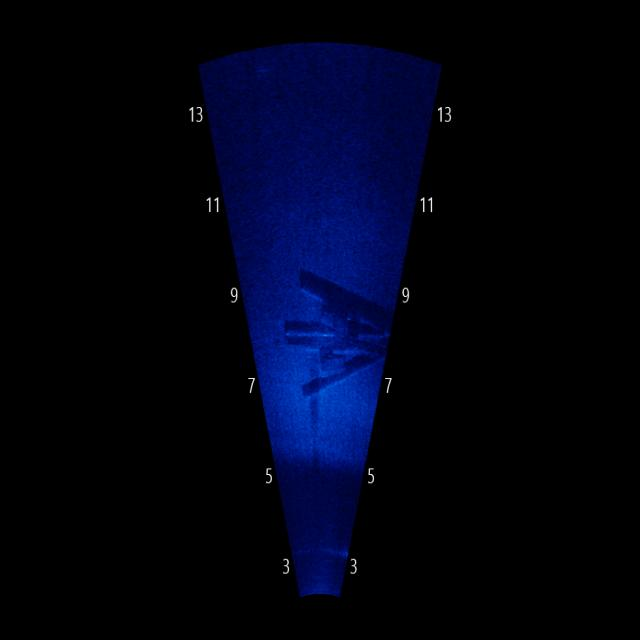triangle: (276, 266, 397, 401)
